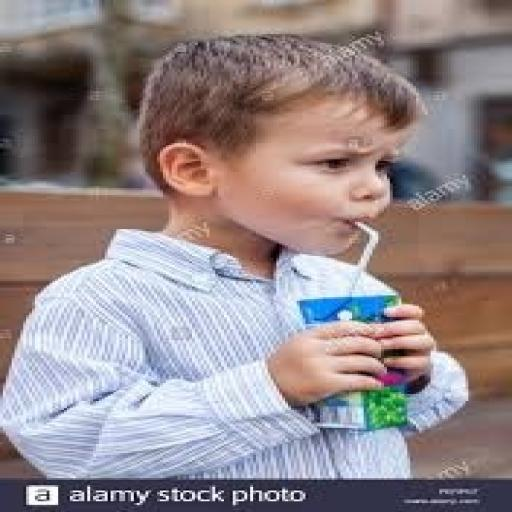drinking: (291, 220, 410, 430)
